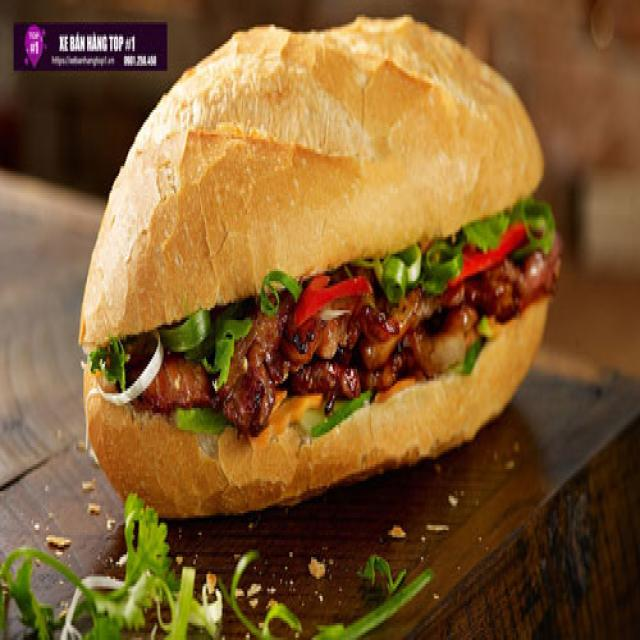banh mi: (79, 17, 559, 515)
